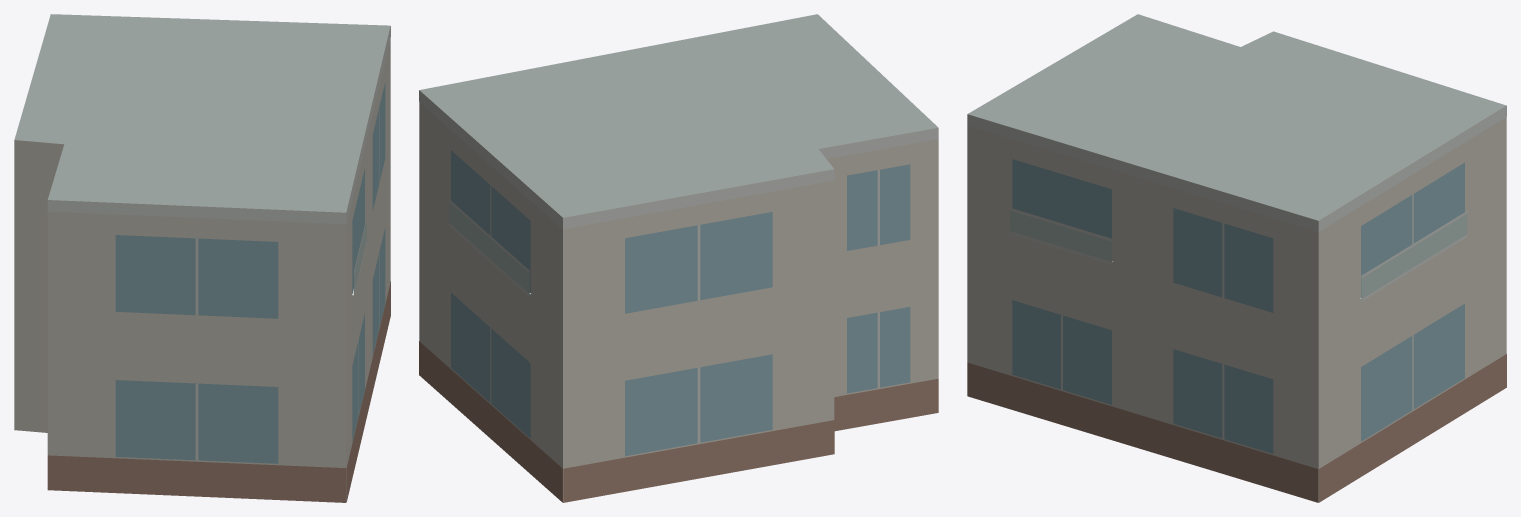
File: survey-upis-32572146.glb
The picture shows the model from 3 angles, left to right: view 1: azimuth 30°, elevation 25°; view 2: azimuth 150°, elevation 25°; view 3: azimuth 270°, elevation 25°; orthographic projection. The views are drawn at different scales.
Visible parts, largest first — view 1: survey-upis-32572146.tmp; view 2: survey-upis-32572146.tmp; view 3: survey-upis-32572146.tmp.
Part boxes in pixels (left/top/right/bottom): survey-upis-32572146.tmp: left=14, top=14, right=390, bottom=502; survey-upis-32572146.tmp: left=419, top=14, right=938, bottom=502; survey-upis-32572146.tmp: left=967, top=14, right=1506, bottom=502.
Size of the model in its own units: 9.6 by 6.1 by 10.58.
